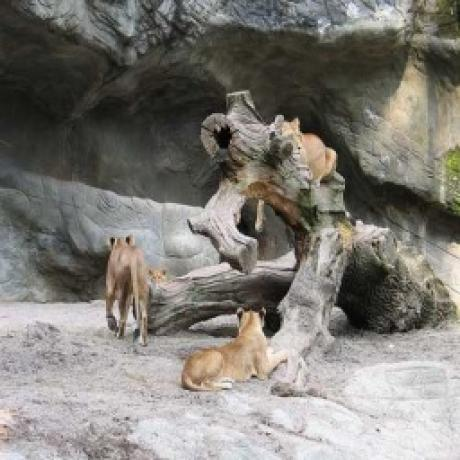Lion: (179, 307, 278, 394), (102, 231, 151, 342)
